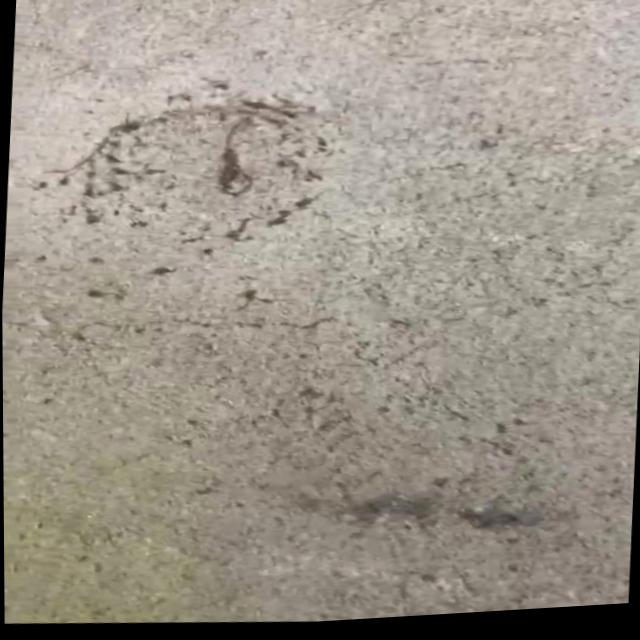Crack: (61, 83, 341, 272)
